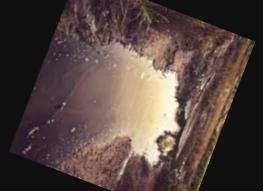Stagnant water: (10, 0, 221, 191)
